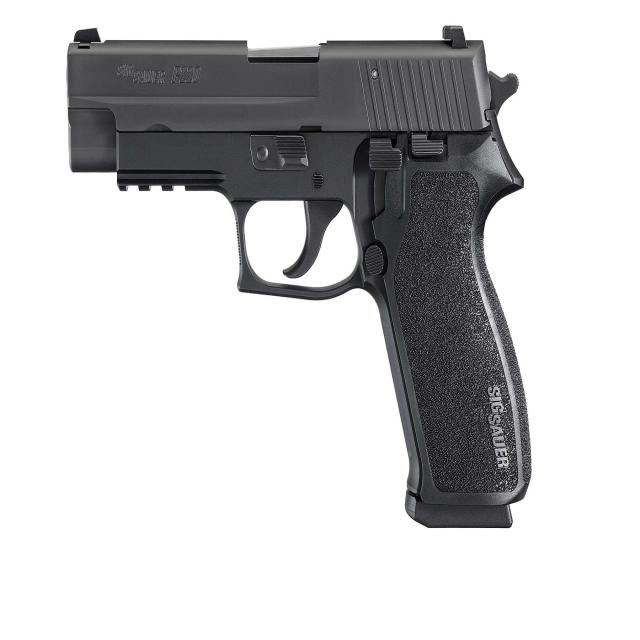HandGun: (66, 24, 534, 530)
